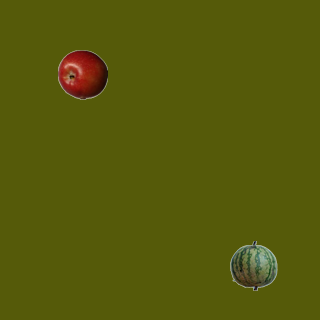Apple Braeburn: (57, 49, 107, 99)
Watermelon: (228, 240, 278, 290)
